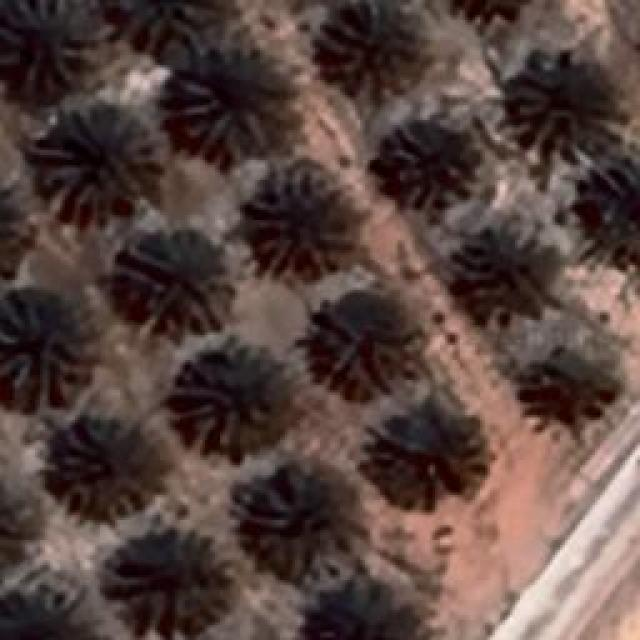PalmTree: (30, 102, 160, 216), (238, 157, 352, 280), (104, 530, 234, 630), (360, 411, 485, 511), (232, 474, 362, 568), (118, 235, 232, 338), (168, 338, 270, 452), (187, 49, 295, 152), (302, 291, 410, 391), (312, 0, 422, 95), (504, 54, 608, 148), (50, 428, 155, 520), (0, 292, 85, 400), (95, 0, 235, 60), (458, 234, 550, 322), (378, 118, 468, 205), (0, 0, 85, 92), (518, 342, 612, 422), (320, 580, 420, 640), (0, 578, 89, 640), (580, 170, 640, 253), (0, 476, 41, 567), (442, 0, 541, 33), (0, 189, 38, 274)
